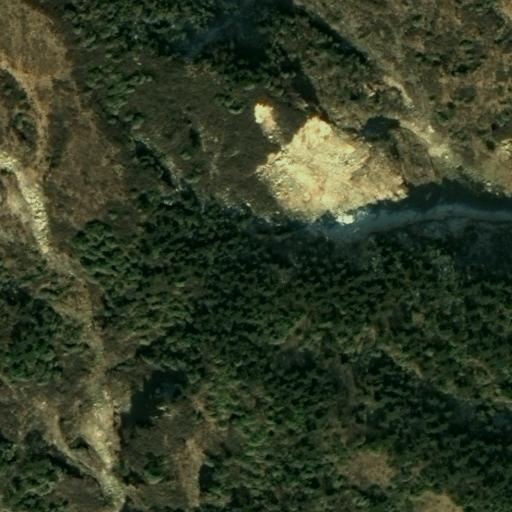landslide: (252, 102, 410, 221)
